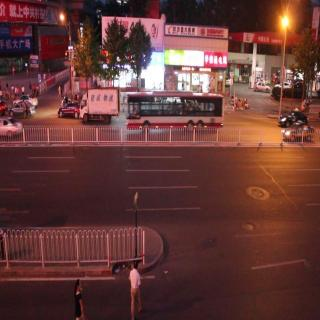BigCar: (123, 91, 225, 132), (82, 89, 118, 121)
Car: (282, 122, 314, 142), (57, 93, 80, 120), (10, 99, 35, 118), (255, 80, 270, 94)
